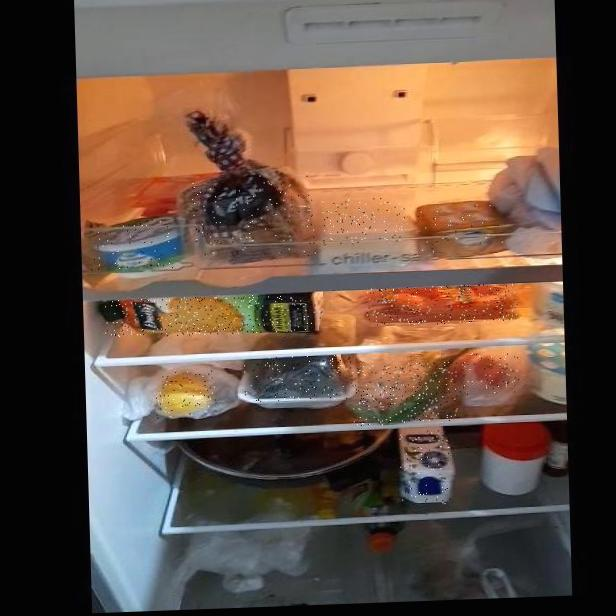bread: (190, 171, 316, 260)
broccoli: (244, 354, 353, 402)
butter: (418, 201, 509, 253)
carrot: (366, 283, 518, 327)
cheese: (321, 197, 407, 245)
green chilies: (351, 362, 459, 426)
juice: (105, 292, 324, 338)
lemon: (155, 370, 216, 419)
milk: (399, 426, 452, 506)
tomato: (458, 351, 519, 395)
yoghurt: (90, 218, 181, 271)
